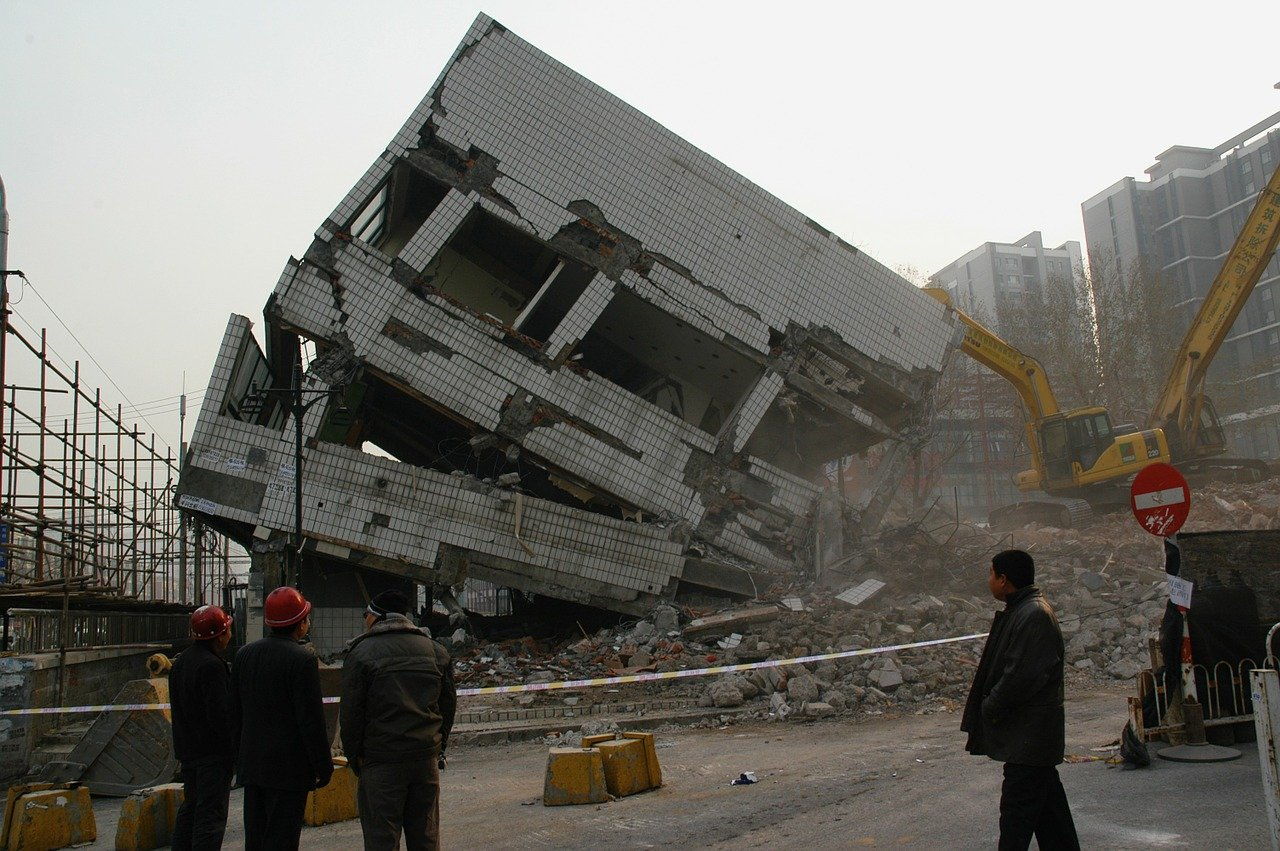bulldozer: (970, 260, 1264, 513)
